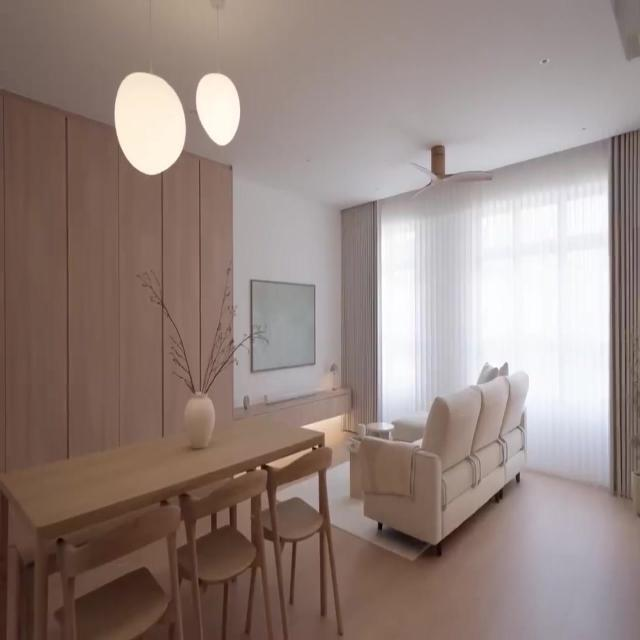obstacle: (0, 416, 326, 638), (358, 368, 528, 556)
